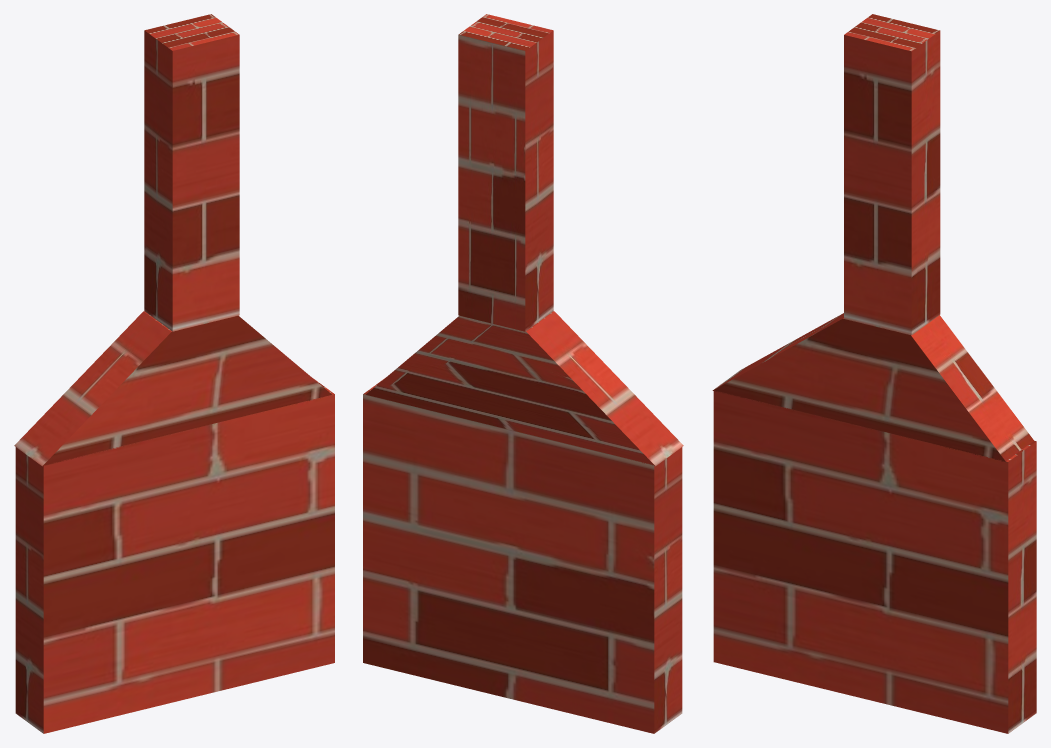
File: chimenea.obj
3 renders of one model, left to right at view 1: azimuth 30°, elevation 25°; view 2: azimuth 150°, elevation 25°; view 3: azimuth 330°, elevation 25°, orthographic.
Parts seen in each view (by area): view 1: pCube11; view 2: pCube11; view 3: pCube11.
Boxes of the visible parts, box(x1,y1,x2,y2) form: pCube11: box(14, 14, 334, 733); pCube11: box(363, 14, 683, 733); pCube11: box(712, 14, 1036, 733).
Size of the model in its own units: 4.46 by 9.5 by 0.7444.
Materials: 1 (1 with a texture image).
